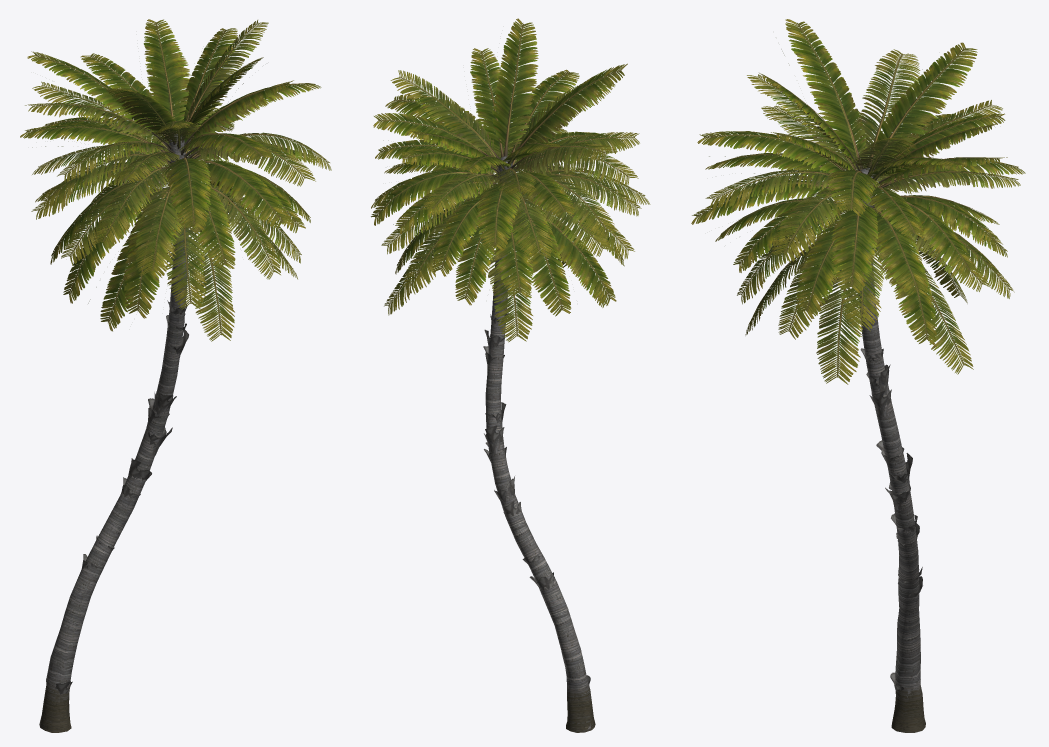
File: cargo_palm_b.glb
The picture shows the model from 3 angles, left to right: view 1: azimuth 30°, elevation 25°; view 2: azimuth 150°, elevation 25°; view 3: azimuth 270°, elevation 25°; orthographic projection. The views are drawn at different scales.
Parts seen in each view (by area): view 1: KB3D_TIS_Palm_B_Main; view 2: KB3D_TIS_Palm_B_Main; view 3: KB3D_TIS_Palm_B_Main.
Part boxes in pixels (left/top/right/bottom): KB3D_TIS_Palm_B_Main: left=20, top=19, right=331, bottom=732; KB3D_TIS_Palm_B_Main: left=371, top=18, right=650, bottom=732; KB3D_TIS_Palm_B_Main: left=691, top=19, right=1025, bottom=732.
Size of the model in its own units: 4.18 by 9.81 by 4.32.
Materials: 1 (1 with a texture image).
